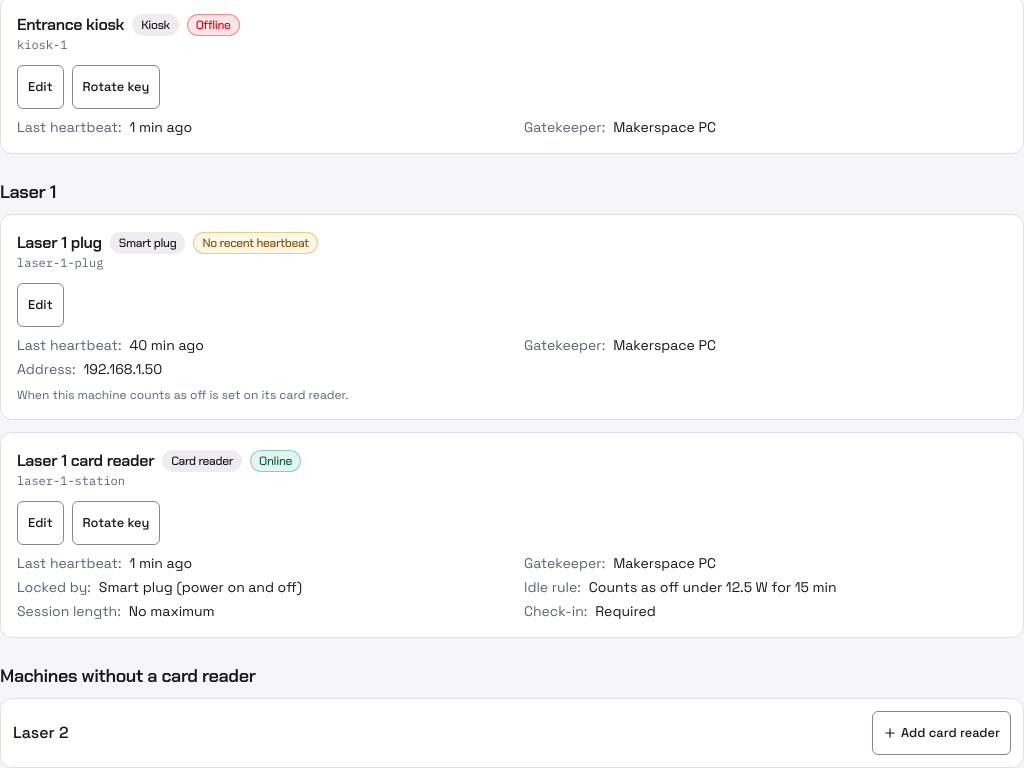
Test: Devices listing › lists machines that have no card reader yet, with a shortcut to add one
(page scrolled)
Expected: the heading "Entrance kiosk Kiosk Offline" is shown, [17, 14, 240, 36]
Expected: the text "Laser 2" is shown, [13, 721, 68, 745]
Click the button with aria-label "add a card reader to laser 2": coordinates (942, 733) [872, 711, 1011, 755]
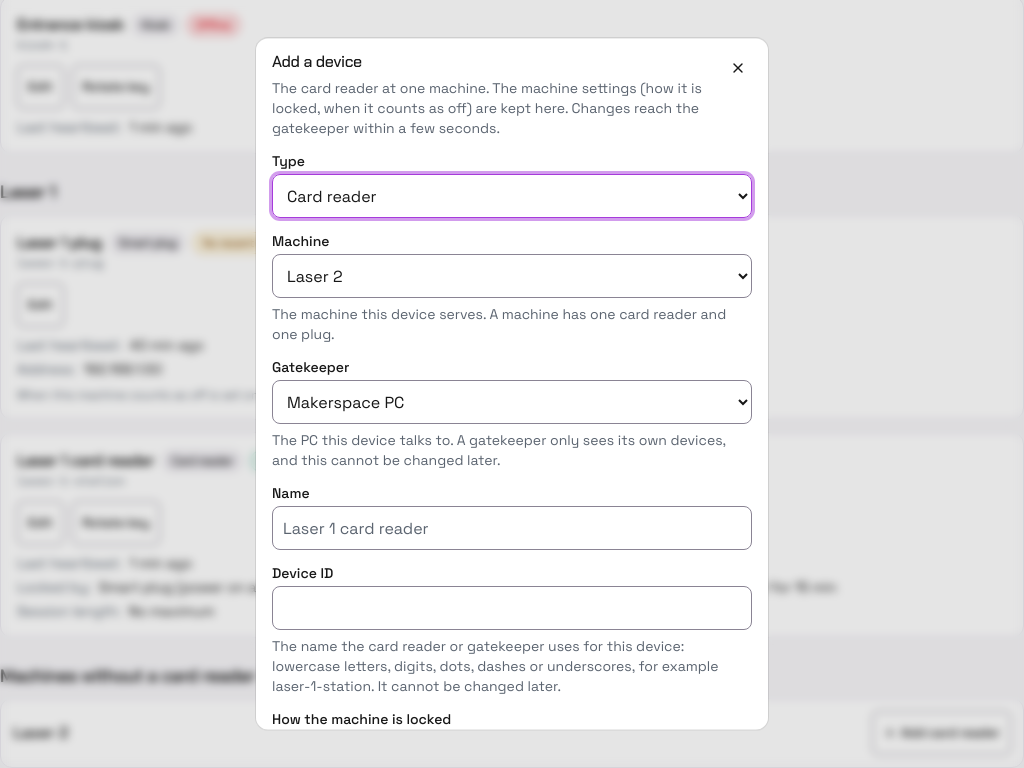
Expected: the dropdown labelled "Type" shows "Card reader", [272, 174, 752, 218]
Expected: the dropdown labelled "Machine" shows "Laser 2", [272, 254, 752, 298]
